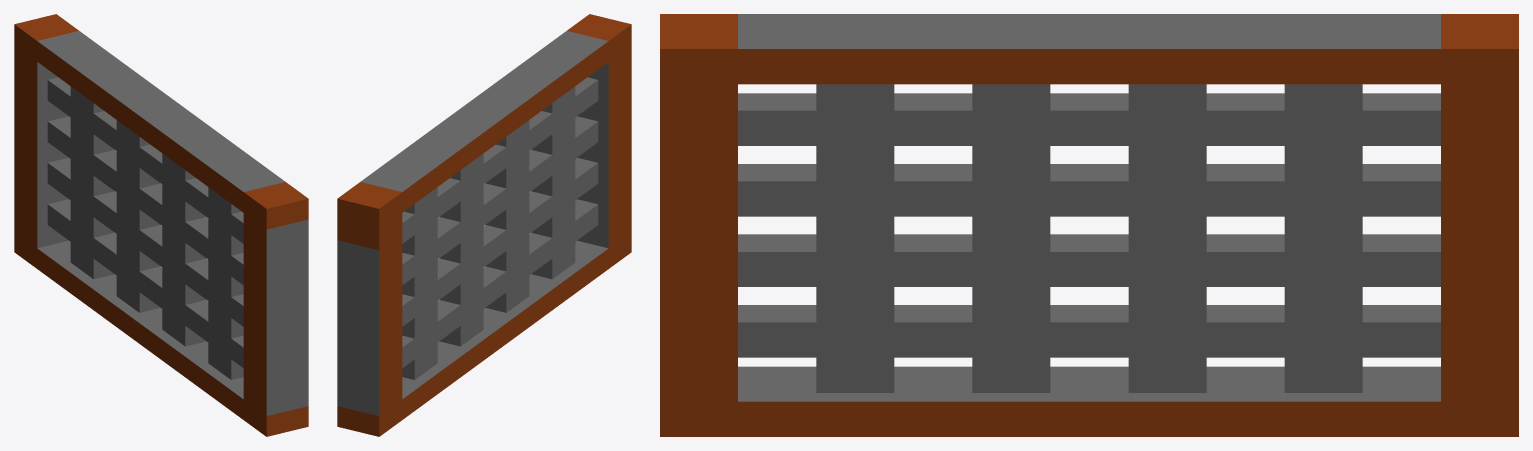
File: WindowFrameF.fbx
3 renders of one model, left to right at view 1: azimuth 30°, elevation 25°; view 2: azimuth 150°, elevation 25°; view 3: azimuth 270°, elevation 25°, orthographic. The views are drawn at different scales.
Parts seen in each view (by area): view 1: WindowFrame; view 2: WindowFrame; view 3: WindowFrame.
Part boxes in pixels (x1,y1,x2,y2): WindowFrame: (14, 14, 308, 436); WindowFrame: (337, 14, 631, 436); WindowFrame: (660, 14, 1518, 436).
Bounding box in the file's own units: 9.59 × 49.7 × 99.68.
